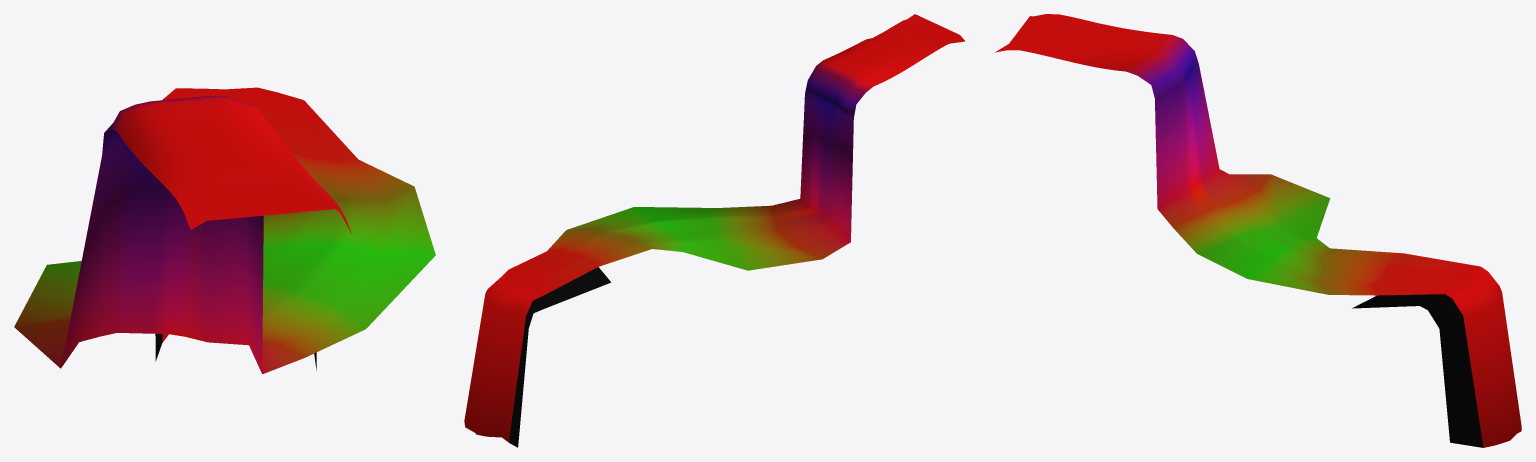
The model's file is RaysWaterfal_test10.fbx.
The picture shows the model from 3 angles, left to right: view 1: azimuth 30°, elevation 25°; view 2: azimuth 150°, elevation 25°; view 3: azimuth 270°, elevation 25°; orthographic projection. The views are drawn at different scales.
Visible parts, largest first — view 1: Waterfall_RaysXperiment; view 2: Waterfall_RaysXperiment; view 3: Waterfall_RaysXperiment.
Boxes of the visible parts, x1=… form: Waterfall_RaysXperiment: x1=14, y1=87, x2=435, y2=374; Waterfall_RaysXperiment: x1=464, y1=14, x2=965, y2=447; Waterfall_RaysXperiment: x1=995, y1=14, x2=1521, y2=447.
Bounding box in the file's own units: 20459 × 20510 × 32455.
